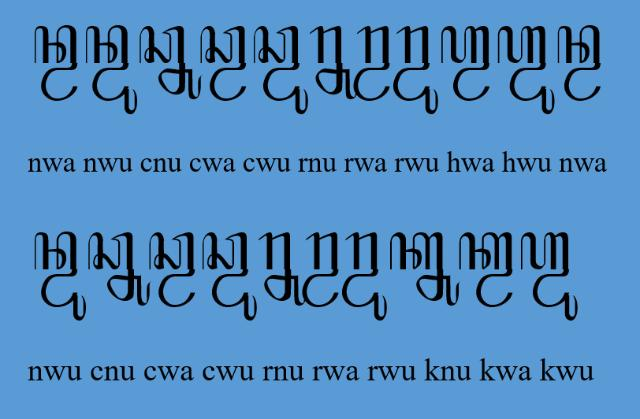cnu: (87, 232, 151, 308), (140, 26, 202, 100)
cw: (148, 231, 196, 307), (200, 25, 246, 102)
cwu: (252, 25, 310, 117), (202, 231, 258, 322)
hw: (440, 26, 490, 102)
hwu: (497, 25, 555, 115)
knu: (390, 232, 460, 306)
kw: (458, 232, 514, 308)
kwu: (520, 231, 578, 321)
nw: (557, 26, 603, 103), (34, 25, 78, 102)
nwu: (34, 231, 88, 321), (85, 24, 137, 116)
rnu: (308, 25, 358, 99), (258, 232, 306, 306)
rw: (354, 25, 391, 101), (302, 232, 338, 308)
rwu: (342, 232, 388, 322), (392, 26, 438, 114)
